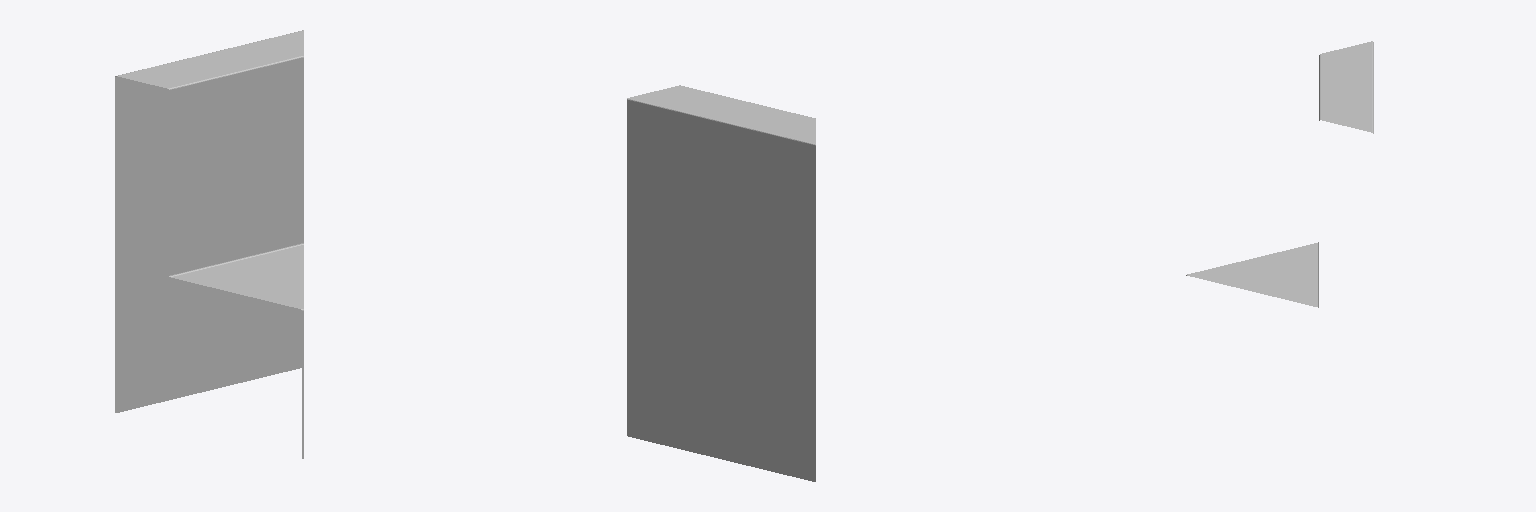
The model's file is Desk_Link.obj.
The picture shows the model from 3 angles: view 1: azimuth 30°, elevation 25°; view 2: azimuth 150°, elevation 25°; view 3: azimuth 270°, elevation 25°; orthographic projection.
Parts seen in each view (by area): view 1: Liaison; view 2: Liaison; view 3: Liaison.
Boxes of the visible parts, box(x1,y1,x2,y2) form: Liaison: box(115, 30, 303, 458); Liaison: box(627, 85, 815, 481); Liaison: box(1186, 41, 1373, 307).
Bounding box in the file's own units: 1.22 × 2.08 × 1.05.